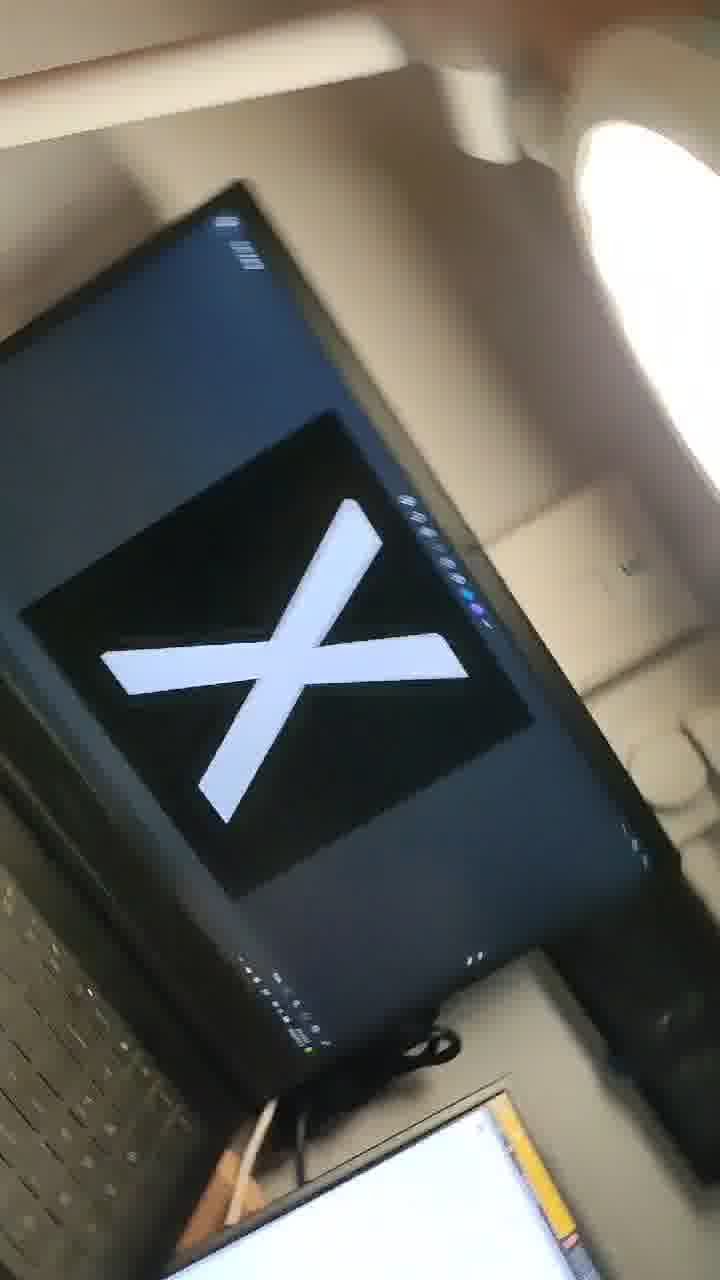X: (68, 452, 486, 859)
